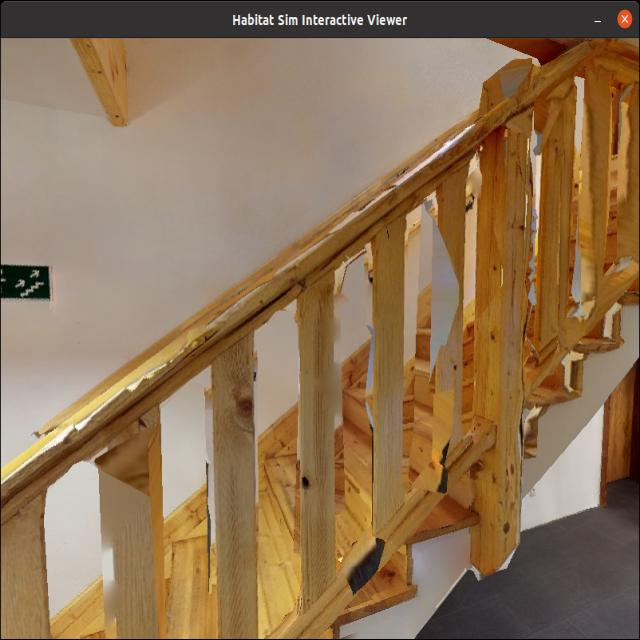stairs: (0, 46, 640, 634)
